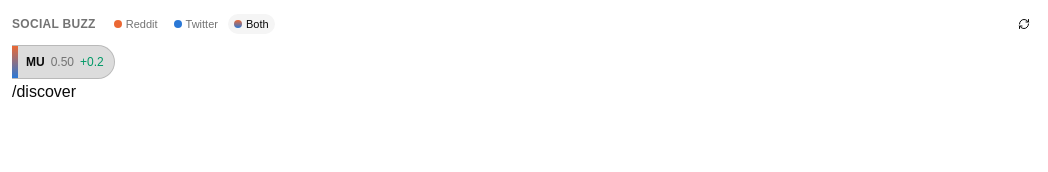
Scenario: a ticker ranked the same on both opens the stock page Social tab on that platform
Click the button "MU 0.50 +0.2": x=63, y=62 [12, 46, 114, 78]
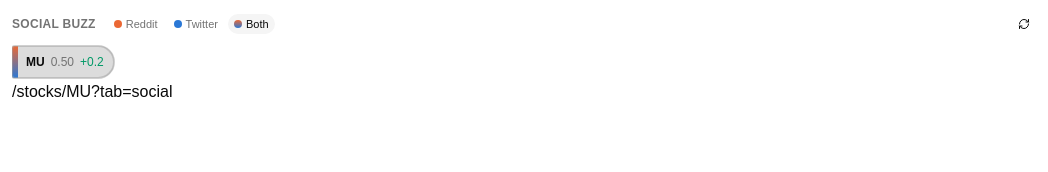
Expected: the text named "Current location" reads "/stocks/MU?tab=social", [12, 83, 172, 100]
